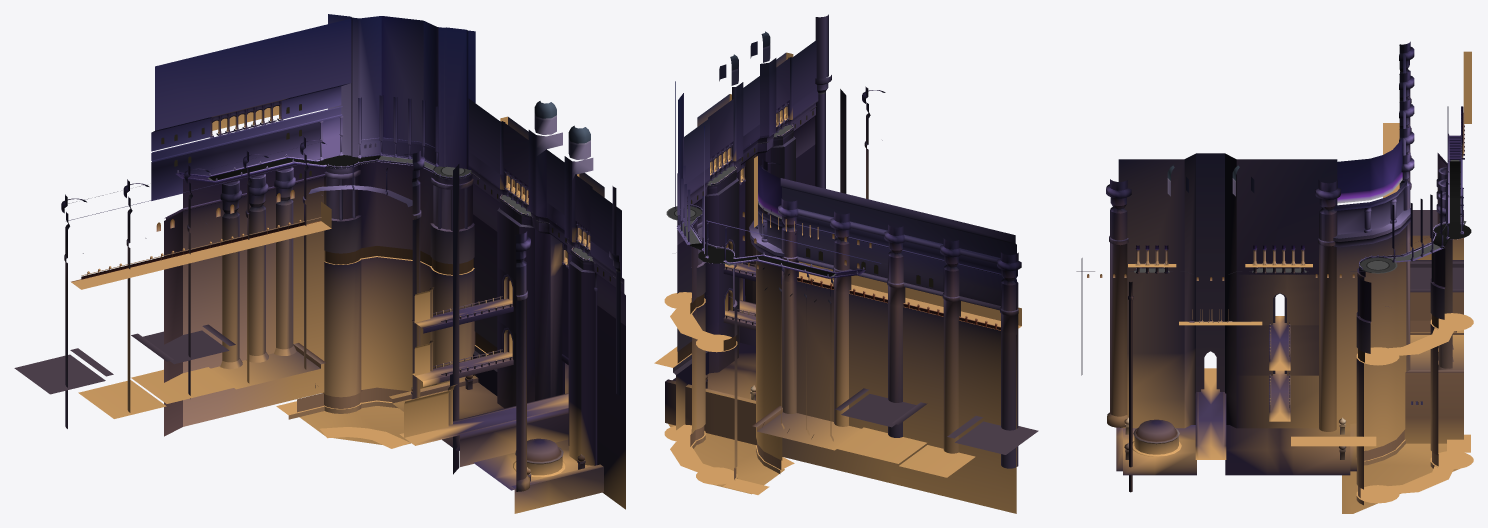
Rendered from 02Sidle.gltf.
The picture shows the model from 3 angles, left to right: view 1: azimuth 30°, elevation 25°; view 2: azimuth 150°, elevation 25°; view 3: azimuth 270°, elevation 25°; orthographic projection. The views are drawn at different scales.
Parts seen in each view (by area): view 1: stg070_o03_Mesh_0093, stg070_o03_Mesh_0137, stg070_o03_Mesh_0002, stg070_o03_Mesh_0042, stg070_o03_Mesh_0130, stg070_p03_Mesh_0007, stg070_o03_Mesh_0115, stg070_o03_Mesh_0084, stg070_o04_Mesh_0212, stg070_g03_Mesh_0001, stg070_o03_Mesh_0129, stg070_p03_Mesh_0003 (+1 smaller); view 2: stg070_o03_Mesh_0093, stg070_o03_Mesh_0002, stg070_o03_Mesh_0130, stg070_o03_Mesh_0042, stg070_o03_Mesh_0137, stg070_o03_Mesh_0084, stg070_o03_Mesh_0115, stg070_p03_Mesh_0007, stg070_g03_Mesh_0001, stg070_w04_Mesh_0000, stg070_o03_Mesh_0129, stg070_p03_Mesh_0003; view 3: stg070_o03_Mesh_0093, stg070_o03_Mesh_0002, stg070_o03_Mesh_0137, stg070_o03_Mesh_0042, stg070_o03_Mesh_0130, stg070_g03_Mesh_0001, stg070_p03_Mesh_0007, stg070_w04_Mesh_0000, stg070_o03_Mesh_0129, stg070_o03_Mesh_0084.
Boxes of the visible parts, bbox=[...] form: stg070_o03_Mesh_0093: bbox=[87, 14, 625, 509]; stg070_o03_Mesh_0137: bbox=[65, 18, 625, 513]; stg070_o03_Mesh_0002: bbox=[14, 31, 622, 490]; stg070_o03_Mesh_0042: bbox=[61, 18, 622, 491]; stg070_o03_Mesh_0130: bbox=[64, 169, 620, 481]; stg070_p03_Mesh_0007: bbox=[297, 115, 590, 412]; stg070_o03_Mesh_0115: bbox=[87, 17, 589, 476]; stg070_o03_Mesh_0084: bbox=[210, 96, 593, 395]; stg070_o04_Mesh_0212: bbox=[322, 17, 473, 169]; stg070_g03_Mesh_0001: bbox=[161, 104, 610, 281]; stg070_o03_Mesh_0129: bbox=[65, 134, 589, 369]; stg070_p03_Mesh_0003: bbox=[81, 160, 588, 279]; stg070_o03_Mesh_0093: bbox=[665, 57, 1016, 513]; stg070_o03_Mesh_0002: bbox=[654, 31, 1038, 494]; stg070_o03_Mesh_0130: bbox=[707, 14, 1018, 468]; stg070_o03_Mesh_0042: bbox=[665, 43, 1021, 438]; stg070_o03_Mesh_0137: bbox=[665, 40, 1021, 445]; stg070_o03_Mesh_0084: bbox=[698, 101, 1016, 302]; stg070_o03_Mesh_0115: bbox=[675, 81, 997, 430]; stg070_p03_Mesh_0007: bbox=[677, 41, 781, 479]; stg070_g03_Mesh_0001: bbox=[688, 111, 933, 287]; stg070_w04_Mesh_0000: bbox=[666, 124, 835, 276]; stg070_o03_Mesh_0129: bbox=[679, 86, 1021, 441]; stg070_p03_Mesh_0003: bbox=[687, 126, 1000, 330]; stg070_o03_Mesh_0093: bbox=[1118, 107, 1464, 505]; stg070_o03_Mesh_0002: bbox=[1123, 51, 1473, 513]; stg070_o03_Mesh_0137: bbox=[1110, 43, 1463, 454]; stg070_o03_Mesh_0042: bbox=[1076, 45, 1464, 471]; stg070_o03_Mesh_0130: bbox=[1081, 89, 1452, 492]; stg070_g03_Mesh_0001: bbox=[1433, 161, 1471, 247]; stg070_p03_Mesh_0007: bbox=[1167, 177, 1456, 497]; stg070_w04_Mesh_0000: bbox=[1134, 160, 1466, 273]; stg070_o03_Mesh_0129: bbox=[1110, 41, 1463, 370]; stg070_o03_Mesh_0084: bbox=[1136, 106, 1463, 404].
Bounding box in the file's own units: 220 × 176 × 177.
